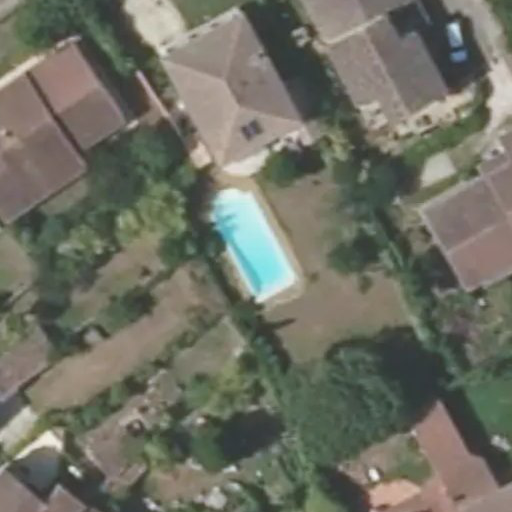pool: (205, 201, 298, 273)
